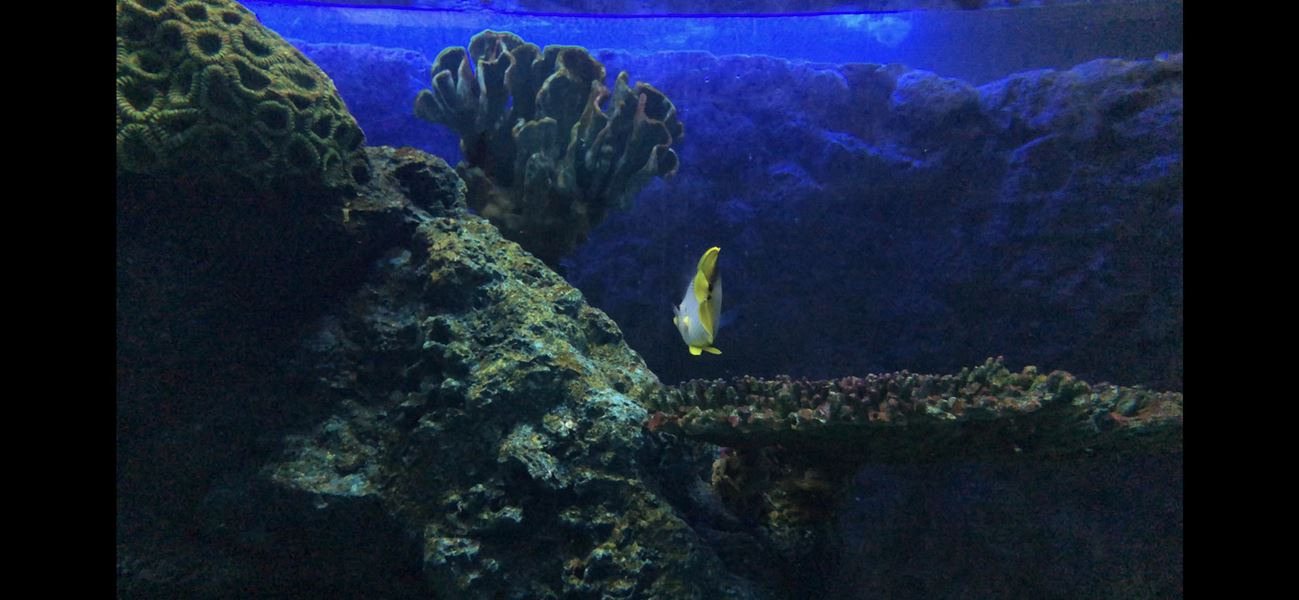Black-backed butterflyfish: (664, 238, 751, 364)
